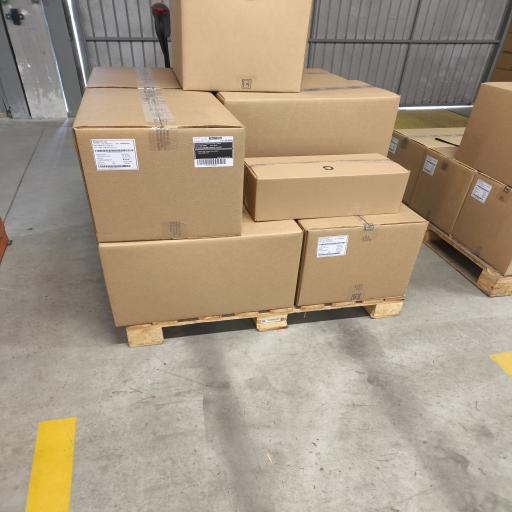pallet: (126, 297, 404, 346), (424, 224, 511, 296)
